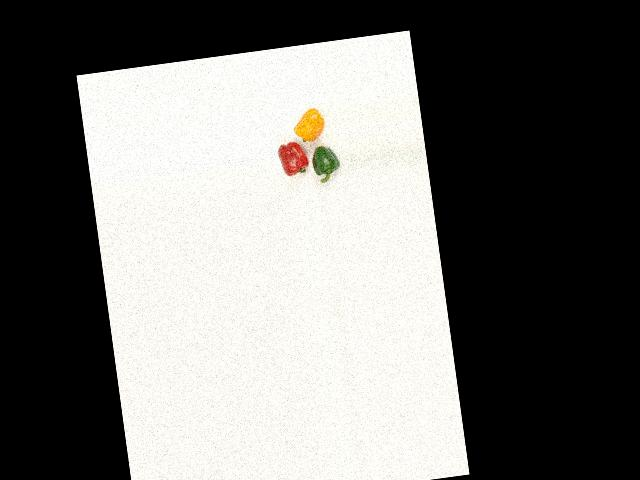bell_pepper: (308, 143, 342, 185)
